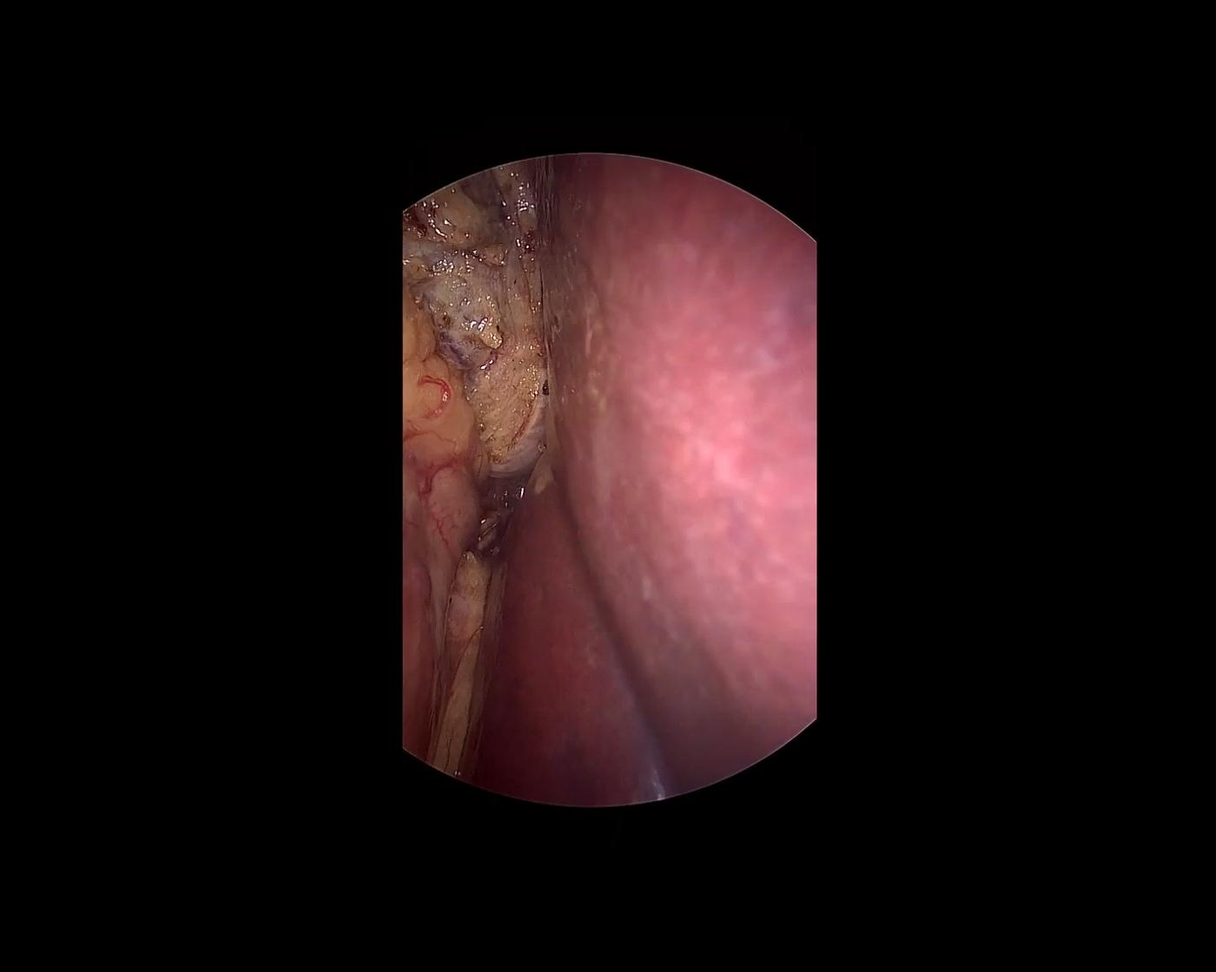Gallbladder: (396, 158, 546, 481)
Liver: (475, 147, 847, 821)
